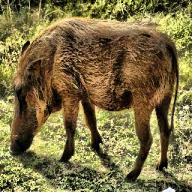boar: (8, 16, 180, 182)
